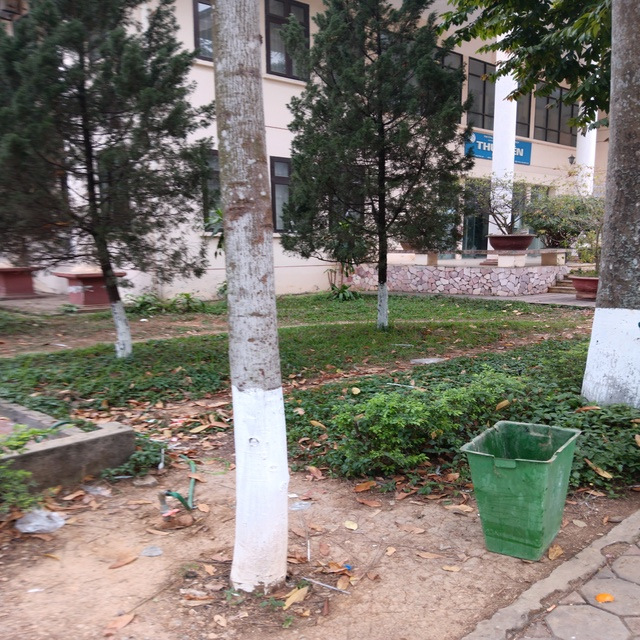thungrac: (464, 412, 582, 567)
